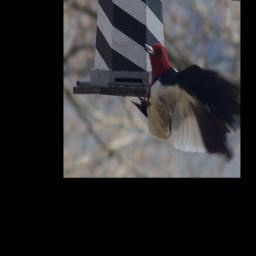Woodpecker: (134, 36, 240, 158)
